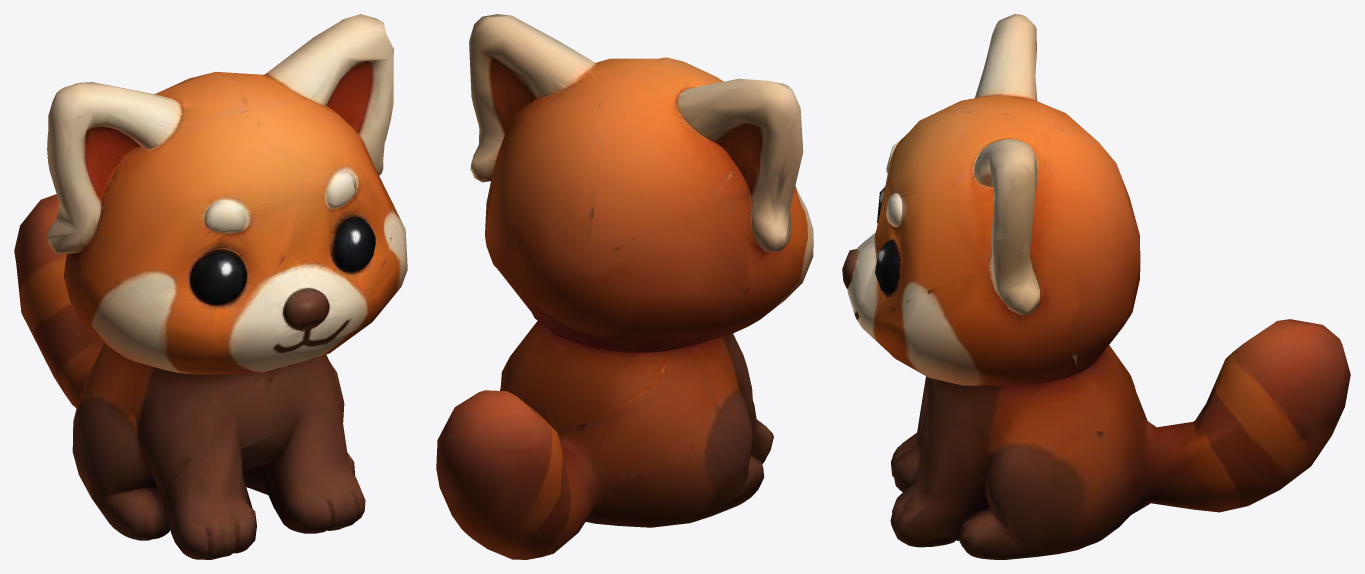
File: red_panda_pbr.glb
3 views of the same model, side by side, from view 1: azimuth 30°, elevation 25°; view 2: azimuth 150°, elevation 25°; view 3: azimuth 270°, elevation 25° (orthographic). The views are drawn at different scales.
Parts seen in each view (by area): view 1: model; view 2: model; view 3: model.
Boxes of the visible parts, left/top/right/bottom form: model: left=14, top=14, right=407, bottom=559; model: left=436, top=14, right=813, bottom=559; model: left=842, top=14, right=1350, bottom=559.
Size of the model in its own units: 1.35 by 1.71 by 1.85.
1 material, 1 textured.
